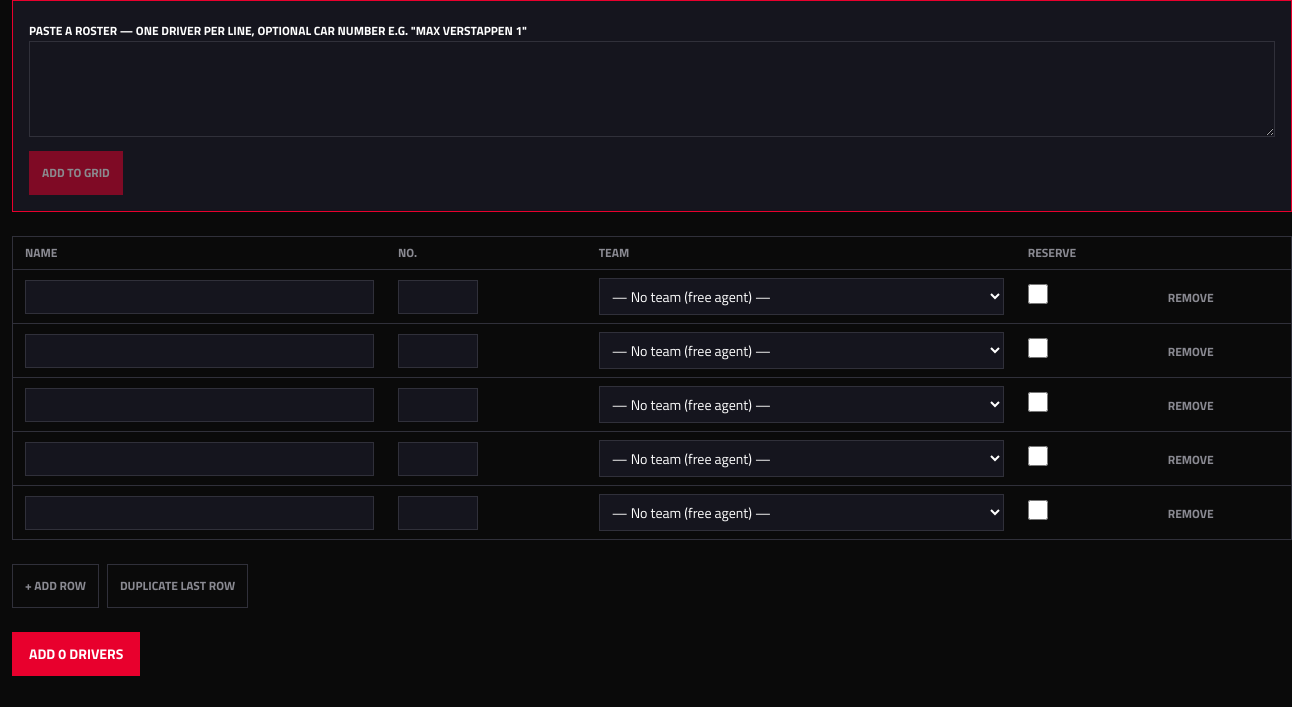
Test: AddDriversGrid › posts the batch with CSRF and reports added/skipped counts
The width and height of the screenshot is (1292, 707).
Expected: the button "Add 0 drivers" is enabled, [12, 632, 140, 676]
Type "Max Verstappen" into the field named "Driver name row 1" at (199, 296), box [25, 280, 374, 314]
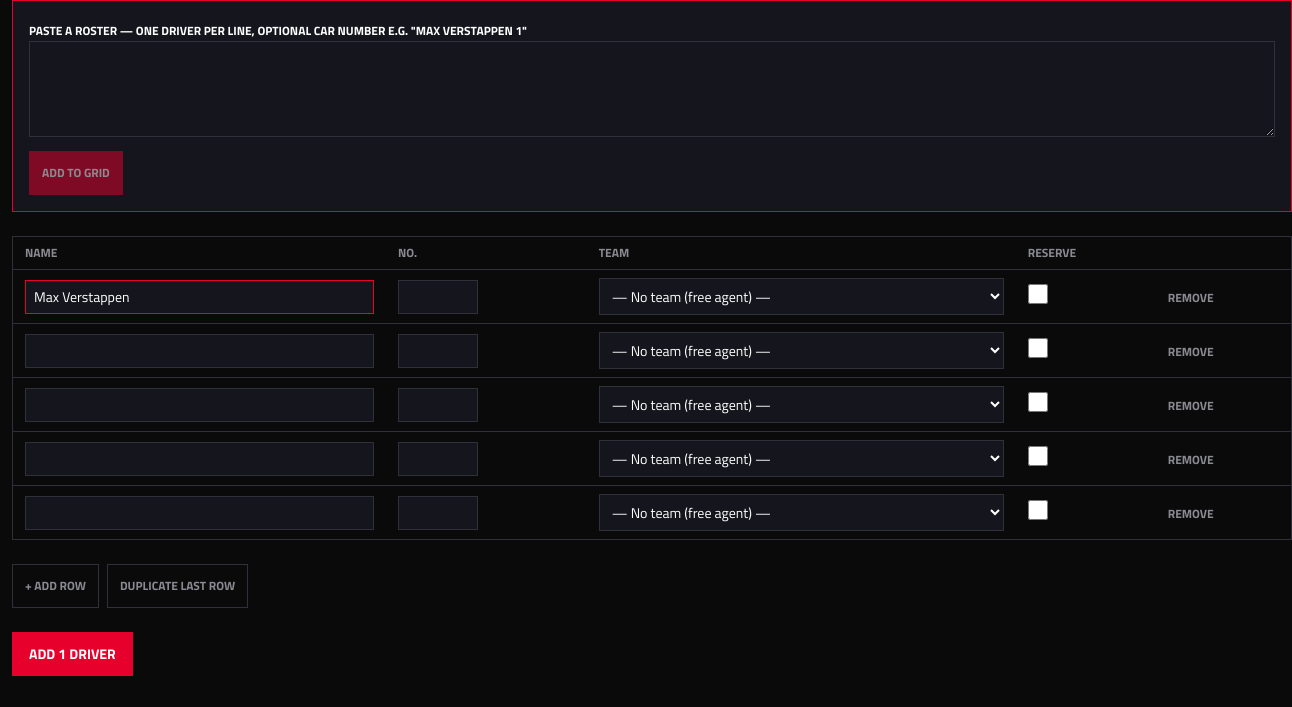
Type "Lando Norris" into the field named "Driver name row 2" at (199, 350), box [25, 334, 374, 368]
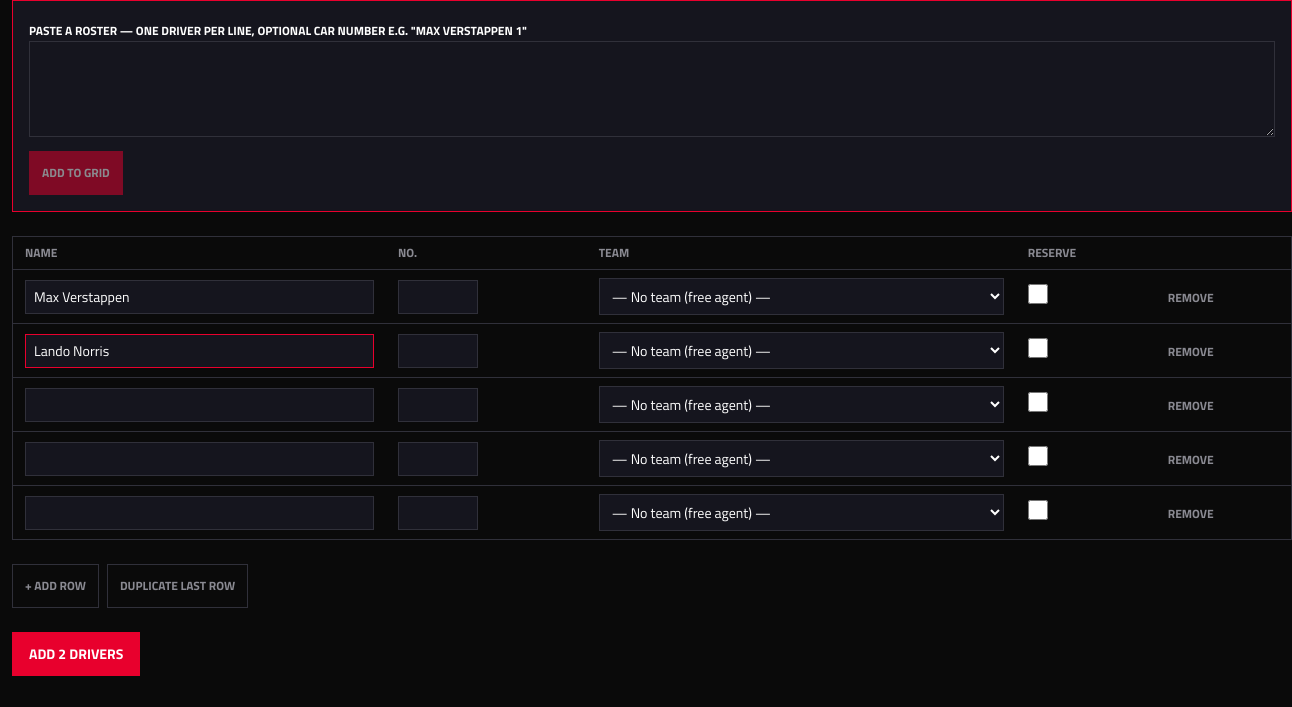
Click the button "Add 2 drivers" at (76, 654), box [12, 632, 140, 676]
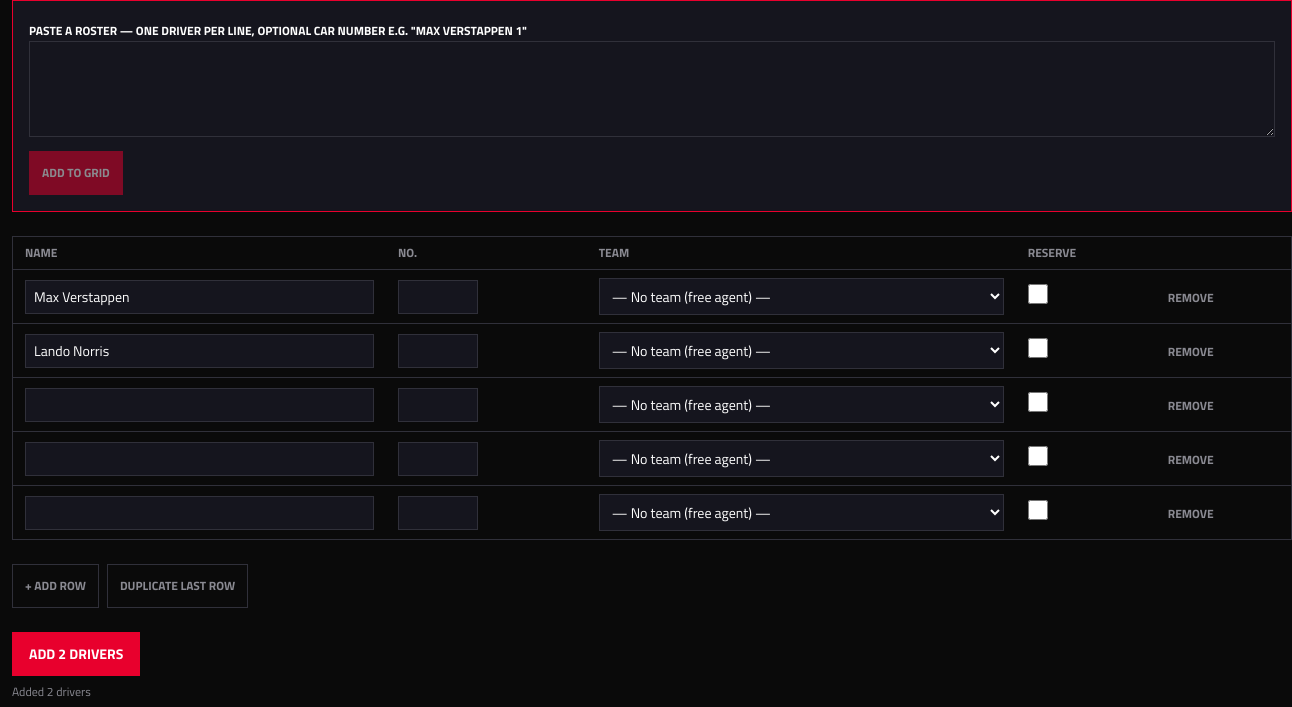
Now the text "Added 2 drivers" is shown, box [12, 682, 91, 701]
